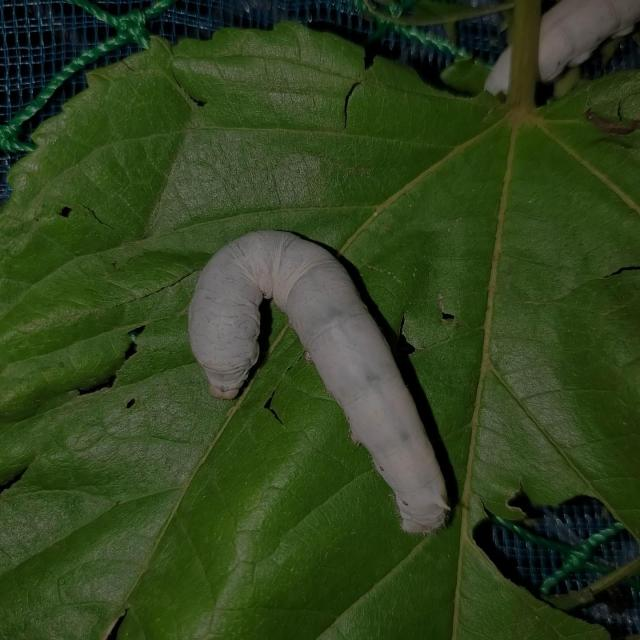Healthy: (183, 219, 459, 539)
